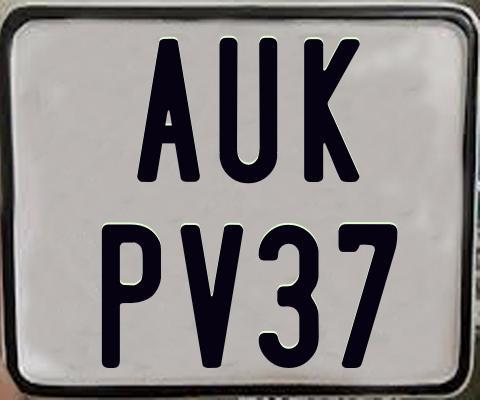3: (256, 224, 317, 369)
7: (337, 222, 399, 368)
A: (136, 38, 201, 182)
K: (304, 36, 360, 182)
P: (102, 222, 161, 371)
U: (218, 35, 280, 186)
V: (180, 224, 243, 369)
